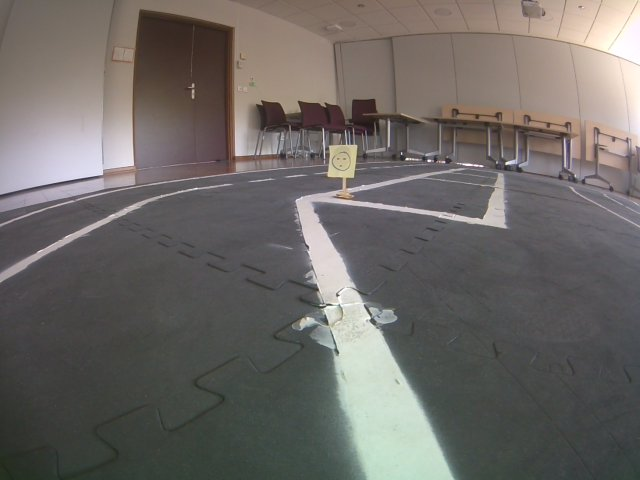Smiley: (325, 144, 362, 180)
